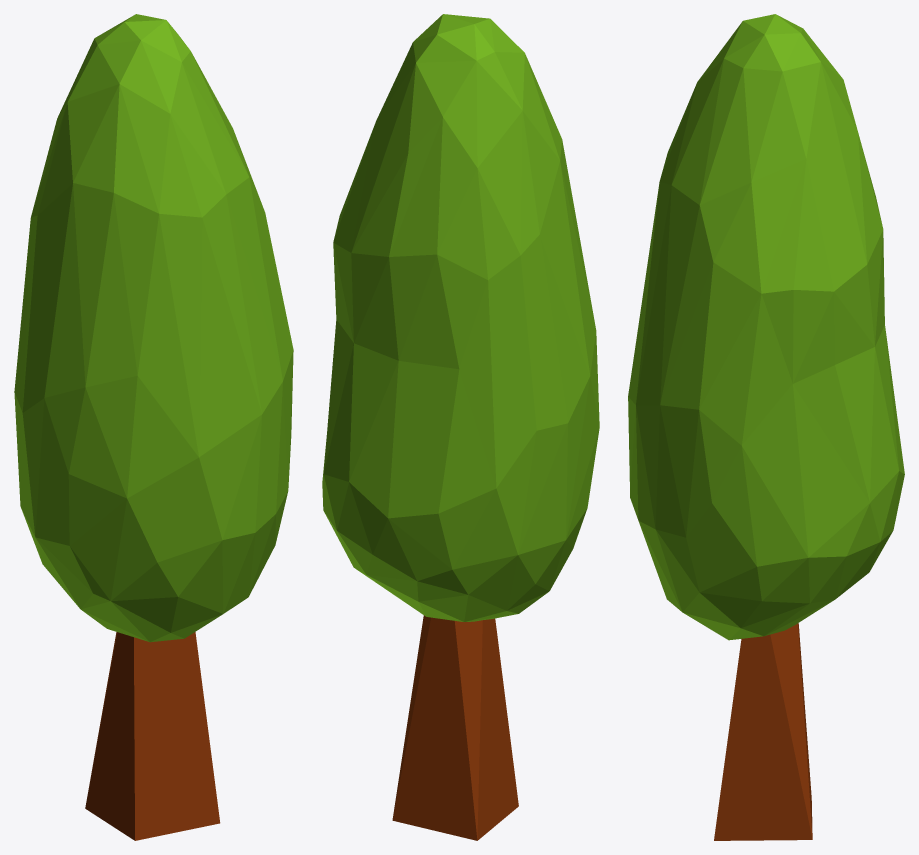
File: TallTree.obj
3 views of the same model, side by side, from view 1: azimuth 30°, elevation 25°; view 2: azimuth 150°, elevation 25°; view 3: azimuth 270°, elevation 25° (orthographic).
Visible parts, largest first — view 1: Куб.016_Куб.038; view 2: Куб.016_Куб.038; view 3: Куб.016_Куб.038.
Boxes of the visible parts, bbox=[...] form: Куб.016_Куб.038: bbox=[14, 14, 293, 840]; Куб.016_Куб.038: bbox=[322, 14, 599, 840]; Куб.016_Куб.038: bbox=[628, 14, 904, 840].
Size of the model in its own units: 2.45 by 7.82 by 2.47.
